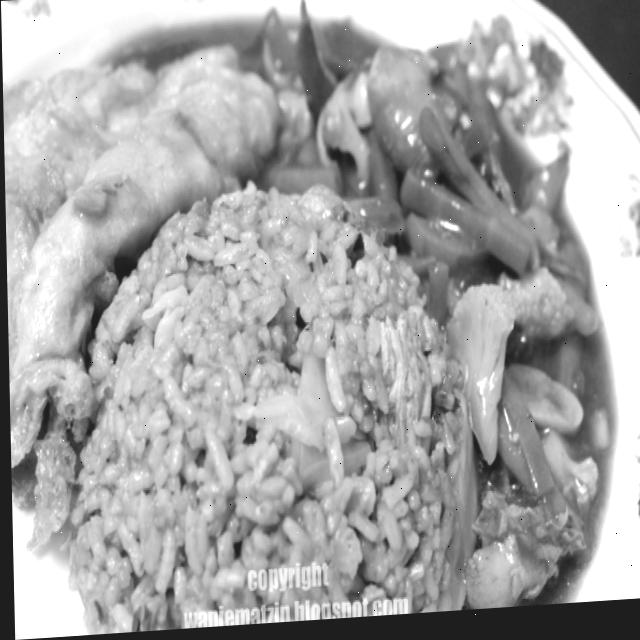米饭主食: (8, 16, 601, 624)
